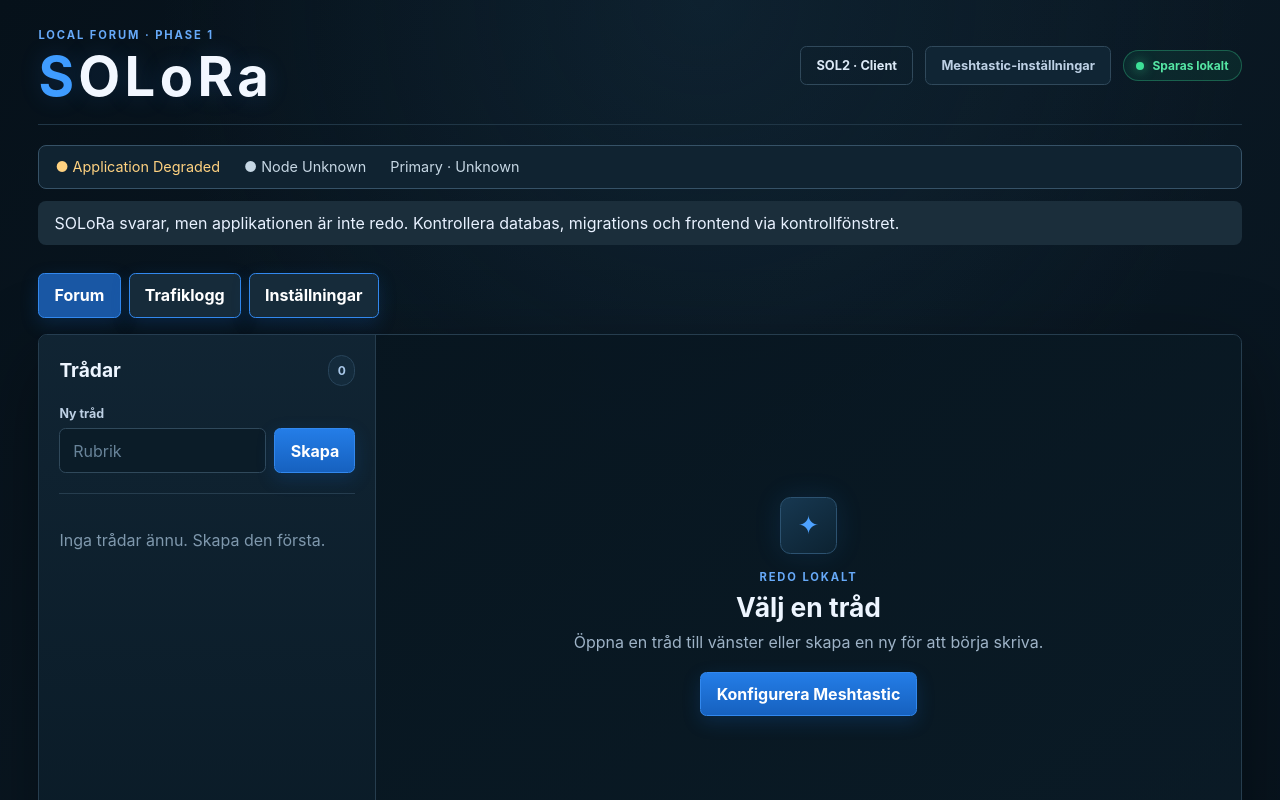
Test case: shows active and saved runtime config without exposing process controls
What coordinates should you click on to do the following:
click the button "SOL2 · Client"
I would click on:
 (857, 66)
Its box is [800, 46, 913, 86].
(page scrolled)
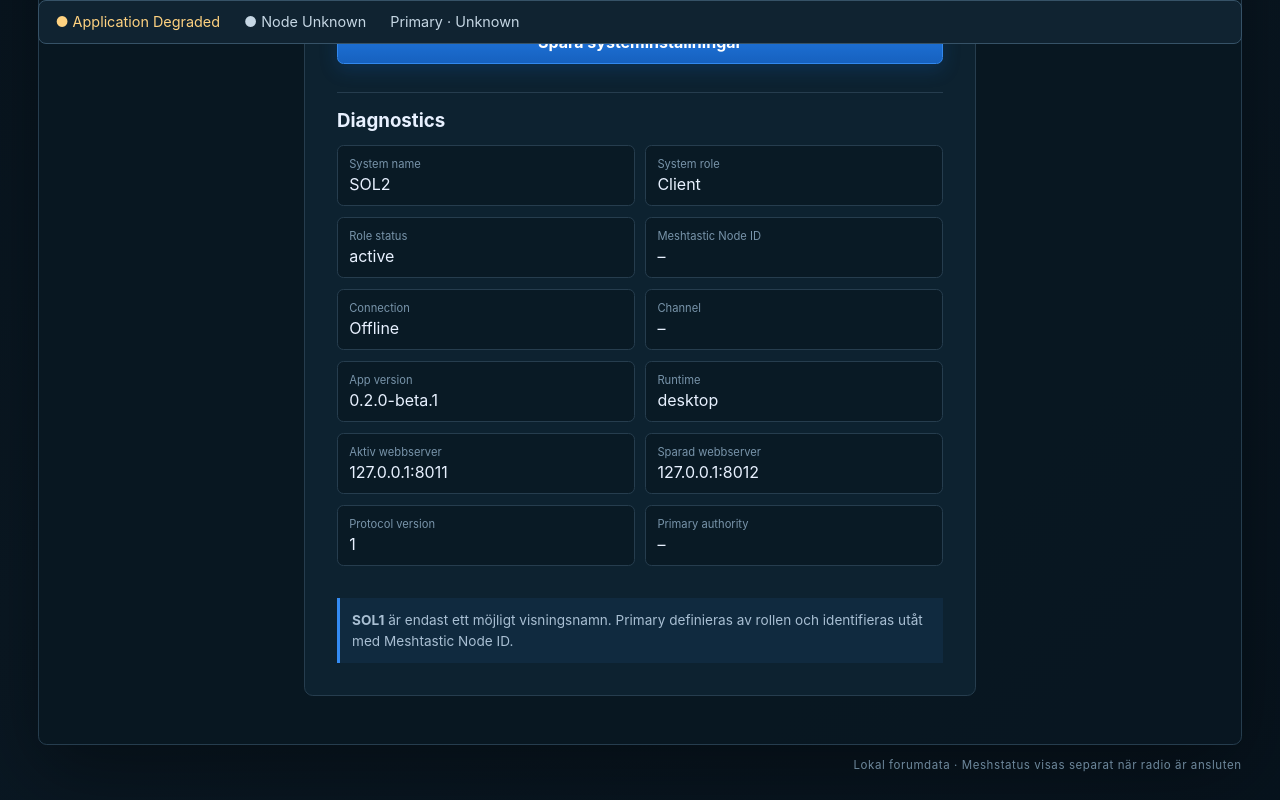
expect the text "127.0.0.1:8011" is shown: met, box [349, 462, 448, 482]
expect the text "127.0.0.1:8012" is shown: met, box [657, 462, 759, 482]
expect the text "desktop" is shown: met, box [657, 390, 718, 410]
